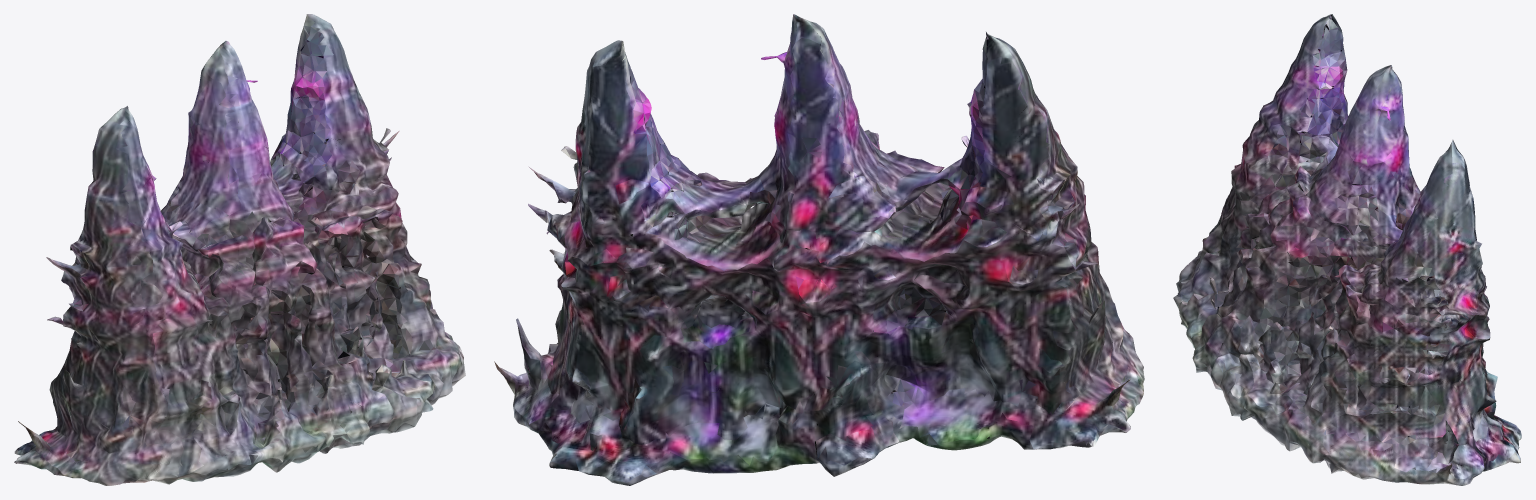
Rendered from umbral_cyst_wall_1792780470516.glb.
3 views of the same model, side by side, from view 1: azimuth 30°, elevation 25°; view 2: azimuth 150°, elevation 25°; view 3: azimuth 270°, elevation 25° (orthographic). The views are drawn at different scales.
Visible parts, largest first — view 1: geometry_0; view 2: geometry_0; view 3: geometry_0.
Part boxes in pixels (box(x1,y1,x2,y2)): geometry_0: box(14, 14, 465, 485); geometry_0: box(494, 14, 1144, 485); geometry_0: box(1173, 14, 1521, 485).
Size of the model in its own units: 0.9159 by 0.6892 by 0.6438.
1 material, 1 textured.
